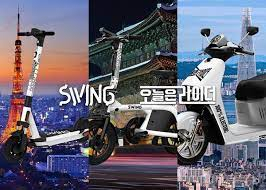kick_handler: (95, 27, 142, 42), (18, 28, 55, 45)
kick_wheel: (7, 133, 27, 160)
